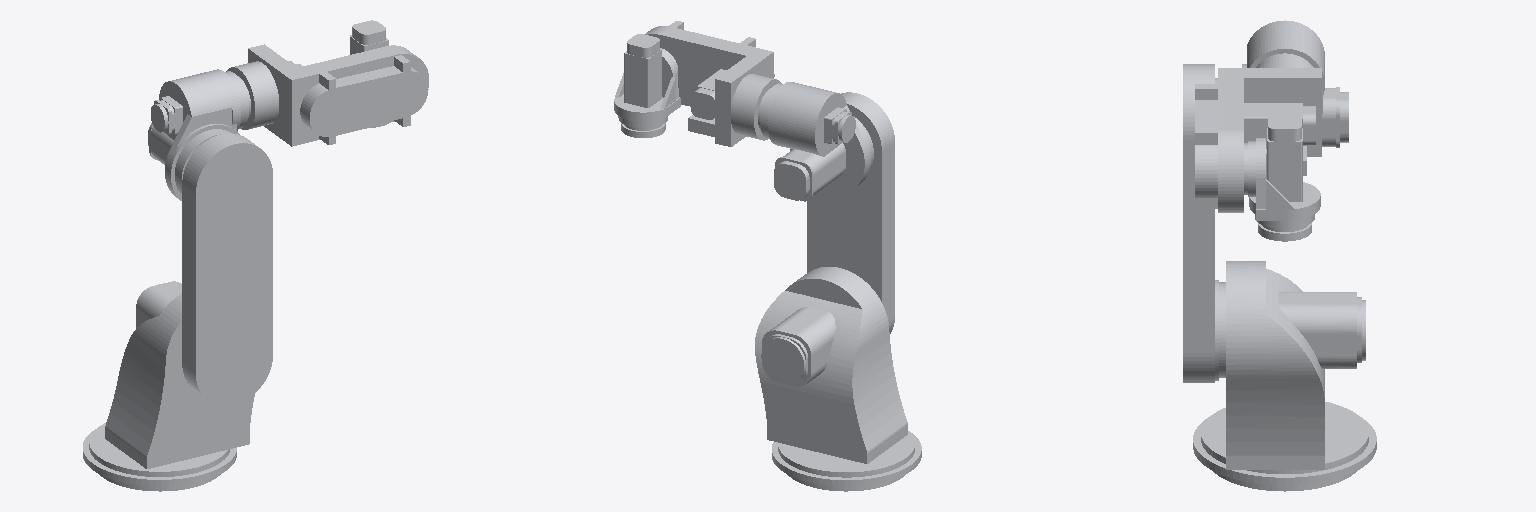
The robot description file, URDF, robot "rosie_600":
<?xml version="1.0"?>
<!-- Rosie 600 by Advanced Metal Research, sim kit 2026-10-09: https://advancedmetalresearch.com/assets/sim/600/
     Units m, kg, rad. Zero pose = home (tool flange facing down). tool0 = flange face, z out of the flange.
     Mesh paths are relative to this file; launch/display.launch.py rewrites them to package:// for ROS 2.
     Visual and collision meshes are the robot's real outside surfaces: one filled solid per link, structural parts' own CAD faces,
     motors and gearboxes as plain envelopes of the same size. Inertials are the robot's real mass properties. -->
<robot name="rosie_600">
  <material name="rosie_grey"><color rgba="0.82 0.83 0.85 1"/></material>
  <material name="rosie_dark"><color rgba="0.30 0.31 0.33 1"/></material>
  <link name="base_footprint"/>
  <joint name="base_footprint_joint" type="fixed">
    <parent link="base_footprint"/><child link="base_link"/>
    <origin xyz="0 0 0.175" rpy="0 0 0"/>
  </joint>
  <link name="base_link">
    <inertial>
      <origin xyz="0.0002 -0.00001 -0.0815" rpy="0 0 0"/>
      <mass value="7.775"/>
      <inertia ixx="0.048026" ixy="-0.000003" ixz="0.00004" iyy="0.047835" iyz="-0.000009" izz="0.041679"/>
    </inertial>
    <visual>
      <origin xyz="0 0 0" rpy="0 0 0"/>
      <geometry><mesh filename="../meshes/visual/base_link.stl"/></geometry>
      <material name="rosie_dark"/>
    </visual>
    <collision>
      <origin xyz="0 0 0" rpy="0 0 0"/>
      <geometry><mesh filename="../meshes/collision/base_link_c00.stl"/></geometry>
    </collision>
    <collision>
      <origin xyz="0 0 0" rpy="0 0 0"/>
      <geometry><mesh filename="../meshes/collision/base_link_c01.stl"/></geometry>
    </collision>
    <collision>
      <origin xyz="0 0 0" rpy="0 0 0"/>
      <geometry><mesh filename="../meshes/collision/base_link_c02.stl"/></geometry>
    </collision>
    <collision>
      <origin xyz="0 0 0" rpy="0 0 0"/>
      <geometry><mesh filename="../meshes/collision/base_link_c03.stl"/></geometry>
    </collision>
    <collision>
      <origin xyz="0 0 0" rpy="0 0 0"/>
      <geometry><mesh filename="../meshes/collision/base_link_c04.stl"/></geometry>
    </collision>
    <collision>
      <origin xyz="0 0 0" rpy="0 0 0"/>
      <geometry><mesh filename="../meshes/collision/base_link_c05.stl"/></geometry>
    </collision>
    <collision>
      <origin xyz="0 0 0" rpy="0 0 0"/>
      <geometry><mesh filename="../meshes/collision/base_link_c06.stl"/></geometry>
    </collision>
    <collision>
      <origin xyz="0 0 0" rpy="0 0 0"/>
      <geometry><mesh filename="../meshes/collision/base_link_c07.stl"/></geometry>
    </collision>
    <collision>
      <origin xyz="0 0 0" rpy="0 0 0"/>
      <geometry><mesh filename="../meshes/collision/base_link_c08.stl"/></geometry>
    </collision>
    <collision>
      <origin xyz="0 0 0" rpy="0 0 0"/>
      <geometry><mesh filename="../meshes/collision/base_link_c09.stl"/></geometry>
    </collision>
  </link>
  <joint name="J1" type="revolute">
    <parent link="base_link"/><child link="link_1"/>
    <origin xyz="0 0 0" rpy="0 0 0"/>
    <axis xyz="0 0 1"/>
    <limit lower="-2.96706" upper="2.96706" effort="157" velocity="5.8643"/>
    <dynamics damping="2" friction="0"/>
  </joint>
  <link name="link_1">
    <inertial>
      <origin xyz="0.03542 -0.01154 0.11172" rpy="0 0 0"/>
      <mass value="8.8297"/>
      <inertia ixx="0.067944" ixy="0.000854" ixz="-0.012492" iyy="0.071057" iyz="0.003029" izz="0.03594"/>
    </inertial>
    <visual>
      <origin xyz="0 0 0" rpy="0 0 0"/>
      <geometry><mesh filename="../meshes/visual/link_1.stl"/></geometry>
      <material name="rosie_grey"/>
    </visual>
    <collision>
      <origin xyz="0 0 0" rpy="0 0 0"/>
      <geometry><mesh filename="../meshes/collision/link_1_c00.stl"/></geometry>
    </collision>
    <collision>
      <origin xyz="0 0 0" rpy="0 0 0"/>
      <geometry><mesh filename="../meshes/collision/link_1_c01.stl"/></geometry>
    </collision>
    <collision>
      <origin xyz="0 0 0" rpy="0 0 0"/>
      <geometry><mesh filename="../meshes/collision/link_1_c02.stl"/></geometry>
    </collision>
    <collision>
      <origin xyz="0 0 0" rpy="0 0 0"/>
      <geometry><mesh filename="../meshes/collision/link_1_c03.stl"/></geometry>
    </collision>
    <collision>
      <origin xyz="0 0 0" rpy="0 0 0"/>
      <geometry><mesh filename="../meshes/collision/link_1_c04.stl"/></geometry>
    </collision>
    <collision>
      <origin xyz="0 0 0" rpy="0 0 0"/>
      <geometry><mesh filename="../meshes/collision/link_1_c05.stl"/></geometry>
    </collision>
    <collision>
      <origin xyz="0 0 0" rpy="0 0 0"/>
      <geometry><mesh filename="../meshes/collision/link_1_c06.stl"/></geometry>
    </collision>
    <collision>
      <origin xyz="0 0 0" rpy="0 0 0"/>
      <geometry><mesh filename="../meshes/collision/link_1_c07.stl"/></geometry>
    </collision>
    <collision>
      <origin xyz="0 0 0" rpy="0 0 0"/>
      <geometry><mesh filename="../meshes/collision/link_1_c08.stl"/></geometry>
    </collision>
    <collision>
      <origin xyz="0 0 0" rpy="0 0 0"/>
      <geometry><mesh filename="../meshes/collision/link_1_c09.stl"/></geometry>
    </collision>
  </link>
  <joint name="J2" type="revolute">
    <parent link="link_1"/><child link="link_2"/>
    <origin xyz="0.05 0 0.165" rpy="0 0 0"/>
    <axis xyz="0 1 0"/>
    <limit lower="-1.919862" upper="1.919862" effort="333" velocity="5.0265"/>
    <dynamics damping="2" friction="0"/>
  </joint>
  <link name="link_2">
    <inertial>
      <origin xyz="0 -0.08657 0.11318" rpy="0 0 0"/>
      <mass value="3.5802"/>
      <inertia ixx="0.057368" ixy="0" ixz="0" iyy="0.060642" iyz="0.000735" izz="0.004483"/>
    </inertial>
    <visual>
      <origin xyz="0 0 0" rpy="0 0 0"/>
      <geometry><mesh filename="../meshes/visual/link_2.stl"/></geometry>
      <material name="rosie_grey"/>
    </visual>
    <collision>
      <origin xyz="0 0 0" rpy="0 0 0"/>
      <geometry><mesh filename="../meshes/collision/link_2_c00.stl"/></geometry>
    </collision>
  </link>
  <joint name="J3" type="revolute">
    <parent link="link_2"/><child link="link_3"/>
    <origin xyz="0 0 0.27" rpy="0 0 0"/>
    <axis xyz="0 1 0"/>
    <limit lower="-2.617994" upper="2.617994" effort="157" velocity="5.8643"/>
    <dynamics damping="2" friction="0"/>
  </joint>
  <link name="link_3">
    <inertial>
      <origin xyz="0.0091 -0.01548 0.01874" rpy="0 0 0"/>
      <mass value="3.7902"/>
      <inertia ixx="0.010653" ixy="-0.000469" ixz="-0.001617" iyy="0.008959" iyz="-0.000955" izz="0.008548"/>
    </inertial>
    <visual>
      <origin xyz="0 0 0" rpy="0 0 0"/>
      <geometry><mesh filename="../meshes/visual/link_3.stl"/></geometry>
      <material name="rosie_grey"/>
    </visual>
    <collision>
      <origin xyz="0 0 0" rpy="0 0 0"/>
      <geometry><mesh filename="../meshes/collision/link_3_c00.stl"/></geometry>
    </collision>
    <collision>
      <origin xyz="0 0 0" rpy="0 0 0"/>
      <geometry><mesh filename="../meshes/collision/link_3_c01.stl"/></geometry>
    </collision>
    <collision>
      <origin xyz="0 0 0" rpy="0 0 0"/>
      <geometry><mesh filename="../meshes/collision/link_3_c02.stl"/></geometry>
    </collision>
    <collision>
      <origin xyz="0 0 0" rpy="0 0 0"/>
      <geometry><mesh filename="../meshes/collision/link_3_c03.stl"/></geometry>
    </collision>
    <collision>
      <origin xyz="0 0 0" rpy="0 0 0"/>
      <geometry><mesh filename="../meshes/collision/link_3_c04.stl"/></geometry>
    </collision>
    <collision>
      <origin xyz="0 0 0" rpy="0 0 0"/>
      <geometry><mesh filename="../meshes/collision/link_3_c05.stl"/></geometry>
    </collision>
    <collision>
      <origin xyz="0 0 0" rpy="0 0 0"/>
      <geometry><mesh filename="../meshes/collision/link_3_c06.stl"/></geometry>
    </collision>
    <collision>
      <origin xyz="0 0 0" rpy="0 0 0"/>
      <geometry><mesh filename="../meshes/collision/link_3_c07.stl"/></geometry>
    </collision>
    <collision>
      <origin xyz="0 0 0" rpy="0 0 0"/>
      <geometry><mesh filename="../meshes/collision/link_3_c08.stl"/></geometry>
    </collision>
    <collision>
      <origin xyz="0 0 0" rpy="0 0 0"/>
      <geometry><mesh filename="../meshes/collision/link_3_c09.stl"/></geometry>
    </collision>
  </link>
  <joint name="J4" type="revolute">
    <parent link="link_3"/><child link="link_4"/>
    <origin xyz="0.075 0 0.065" rpy="0 0 0"/>
    <axis xyz="1 0 0"/>
    <limit lower="-3.141593" upper="3.141593" effort="54" velocity="6.2832"/>
    <dynamics damping="0.5" friction="0"/>
  </joint>
  <link name="link_4">
    <inertial>
      <origin xyz="0.10459 -0.03843 -0.00241" rpy="0 0 0"/>
      <mass value="3.75"/>
      <inertia ixx="0.007509" ixy="0.005758" ixz="-0.000133" iyy="0.022602" iyz="0.000205" izz="0.024574"/>
    </inertial>
    <visual>
      <origin xyz="0 0 0" rpy="0 0 0"/>
      <geometry><mesh filename="../meshes/visual/link_4.stl"/></geometry>
      <material name="rosie_grey"/>
    </visual>
    <collision>
      <origin xyz="0 0 0" rpy="0 0 0"/>
      <geometry><mesh filename="../meshes/collision/link_4_c00.stl"/></geometry>
    </collision>
    <collision>
      <origin xyz="0 0 0" rpy="0 0 0"/>
      <geometry><mesh filename="../meshes/collision/link_4_c01.stl"/></geometry>
    </collision>
    <collision>
      <origin xyz="0 0 0" rpy="0 0 0"/>
      <geometry><mesh filename="../meshes/collision/link_4_c02.stl"/></geometry>
    </collision>
    <collision>
      <origin xyz="0 0 0" rpy="0 0 0"/>
      <geometry><mesh filename="../meshes/collision/link_4_c03.stl"/></geometry>
    </collision>
    <collision>
      <origin xyz="0 0 0" rpy="0 0 0"/>
      <geometry><mesh filename="../meshes/collision/link_4_c04.stl"/></geometry>
    </collision>
    <collision>
      <origin xyz="0 0 0" rpy="0 0 0"/>
      <geometry><mesh filename="../meshes/collision/link_4_c05.stl"/></geometry>
    </collision>
    <collision>
      <origin xyz="0 0 0" rpy="0 0 0"/>
      <geometry><mesh filename="../meshes/collision/link_4_c06.stl"/></geometry>
    </collision>
    <collision>
      <origin xyz="0 0 0" rpy="0 0 0"/>
      <geometry><mesh filename="../meshes/collision/link_4_c07.stl"/></geometry>
    </collision>
    <collision>
      <origin xyz="0 0 0" rpy="0 0 0"/>
      <geometry><mesh filename="../meshes/collision/link_4_c08.stl"/></geometry>
    </collision>
    <collision>
      <origin xyz="0 0 0" rpy="0 0 0"/>
      <geometry><mesh filename="../meshes/collision/link_4_c09.stl"/></geometry>
    </collision>
  </link>
  <joint name="J5" type="revolute">
    <parent link="link_4"/><child link="link_5"/>
    <origin xyz="0.205 0 0" rpy="0 0 0"/>
    <axis xyz="0 1 0"/>
    <limit lower="-2.181662" upper="2.181662" effort="54" velocity="6.2832"/>
    <dynamics damping="0.5" friction="0"/>
  </joint>
  <link name="link_5">
    <inertial>
      <origin xyz="0.00001 -0.01272 -0.01648" rpy="0 0 0"/>
      <mass value="1.3356"/>
      <inertia ixx="0.001668" ixy="0.000005" ixz="-0.000002" iyy="0.001536" iyz="0.00024" izz="0.00097"/>
    </inertial>
    <visual>
      <origin xyz="0 0 0" rpy="0 0 0"/>
      <geometry><mesh filename="../meshes/visual/link_5.stl"/></geometry>
      <material name="rosie_grey"/>
    </visual>
    <collision>
      <origin xyz="0 0 0" rpy="0 0 0"/>
      <geometry><mesh filename="../meshes/collision/link_5_c00.stl"/></geometry>
    </collision>
    <collision>
      <origin xyz="0 0 0" rpy="0 0 0"/>
      <geometry><mesh filename="../meshes/collision/link_5_c01.stl"/></geometry>
    </collision>
    <collision>
      <origin xyz="0 0 0" rpy="0 0 0"/>
      <geometry><mesh filename="../meshes/collision/link_5_c02.stl"/></geometry>
    </collision>
    <collision>
      <origin xyz="0 0 0" rpy="0 0 0"/>
      <geometry><mesh filename="../meshes/collision/link_5_c03.stl"/></geometry>
    </collision>
    <collision>
      <origin xyz="0 0 0" rpy="0 0 0"/>
      <geometry><mesh filename="../meshes/collision/link_5_c04.stl"/></geometry>
    </collision>
    <collision>
      <origin xyz="0 0 0" rpy="0 0 0"/>
      <geometry><mesh filename="../meshes/collision/link_5_c05.stl"/></geometry>
    </collision>
    <collision>
      <origin xyz="0 0 0" rpy="0 0 0"/>
      <geometry><mesh filename="../meshes/collision/link_5_c06.stl"/></geometry>
    </collision>
    <collision>
      <origin xyz="0 0 0" rpy="0 0 0"/>
      <geometry><mesh filename="../meshes/collision/link_5_c07.stl"/></geometry>
    </collision>
    <collision>
      <origin xyz="0 0 0" rpy="0 0 0"/>
      <geometry><mesh filename="../meshes/collision/link_5_c08.stl"/></geometry>
    </collision>
    <collision>
      <origin xyz="0 0 0" rpy="0 0 0"/>
      <geometry><mesh filename="../meshes/collision/link_5_c09.stl"/></geometry>
    </collision>
  </link>
  <joint name="J6" type="revolute">
    <parent link="link_5"/><child link="link_6"/>
    <origin xyz="0 0 -0.07725" rpy="0 0 0"/>
    <axis xyz="0 0 1"/>
    <limit lower="-3.141593" upper="3.141593" effort="28" velocity="6.2832"/>
    <dynamics damping="0.5" friction="0"/>
  </joint>
  <link name="link_6">
    <inertial>
      <origin xyz="-0.00006 0 0.01074" rpy="0 0 0"/>
      <mass value="0.2413"/>
      <inertia ixx="0.000051" ixy="0" ixz="0" iyy="0.00005" iyz="0" izz="0.000094"/>
    </inertial>
    <visual>
      <origin xyz="0 0 0" rpy="0 0 0"/>
      <geometry><mesh filename="../meshes/visual/link_6.stl"/></geometry>
      <material name="rosie_grey"/>
    </visual>
    <collision>
      <origin xyz="0 0 0" rpy="0 0 0"/>
      <geometry><mesh filename="../meshes/collision/link_6_c00.stl"/></geometry>
    </collision>
    <collision>
      <origin xyz="0 0 0" rpy="0 0 0"/>
      <geometry><mesh filename="../meshes/collision/link_6_c01.stl"/></geometry>
    </collision>
    <collision>
      <origin xyz="0 0 0" rpy="0 0 0"/>
      <geometry><mesh filename="../meshes/collision/link_6_c02.stl"/></geometry>
    </collision>
    <collision>
      <origin xyz="0 0 0" rpy="0 0 0"/>
      <geometry><mesh filename="../meshes/collision/link_6_c03.stl"/></geometry>
    </collision>
    <collision>
      <origin xyz="0 0 0" rpy="0 0 0"/>
      <geometry><mesh filename="../meshes/collision/link_6_c04.stl"/></geometry>
    </collision>
    <collision>
      <origin xyz="0 0 0" rpy="0 0 0"/>
      <geometry><mesh filename="../meshes/collision/link_6_c05.stl"/></geometry>
    </collision>
    <collision>
      <origin xyz="0 0 0" rpy="0 0 0"/>
      <geometry><mesh filename="../meshes/collision/link_6_c06.stl"/></geometry>
    </collision>
    <collision>
      <origin xyz="0 0 0" rpy="0 0 0"/>
      <geometry><mesh filename="../meshes/collision/link_6_c07.stl"/></geometry>
    </collision>
    <collision>
      <origin xyz="0 0 0" rpy="0 0 0"/>
      <geometry><mesh filename="../meshes/collision/link_6_c08.stl"/></geometry>
    </collision>
    <collision>
      <origin xyz="0 0 0" rpy="0 0 0"/>
      <geometry><mesh filename="../meshes/collision/link_6_c09.stl"/></geometry>
    </collision>
  </link>
  <joint name="tool0_joint" type="fixed">
    <parent link="link_6"/><child link="tool0"/>
    <origin xyz="0 0 0" rpy="3.141592653589793 0 0"/>
  </joint>
  <link name="tool0">
    <inertial><origin xyz="0 0 0" rpy="0 0 0"/><mass value="1e-06"/><inertia ixx="1e-12" ixy="0" ixz="0" iyy="1e-12" iyz="0" izz="1e-12"/></inertial>
  </link>
  <transmission name="J1_transmission">
    <type>transmission_interface/SimpleTransmission</type>
    <joint name="J1"><hardwareInterface>hardware_interface/PositionJointInterface</hardwareInterface></joint>
    <actuator name="J1_motor"><mechanicalReduction>1</mechanicalReduction></actuator>
  </transmission>
  <transmission name="J2_transmission">
    <type>transmission_interface/SimpleTransmission</type>
    <joint name="J2"><hardwareInterface>hardware_interface/PositionJointInterface</hardwareInterface></joint>
    <actuator name="J2_motor"><mechanicalReduction>1</mechanicalReduction></actuator>
  </transmission>
  <transmission name="J3_transmission">
    <type>transmission_interface/SimpleTransmission</type>
    <joint name="J3"><hardwareInterface>hardware_interface/PositionJointInterface</hardwareInterface></joint>
    <actuator name="J3_motor"><mechanicalReduction>1</mechanicalReduction></actuator>
  </transmission>
  <transmission name="J4_transmission">
    <type>transmission_interface/SimpleTransmission</type>
    <joint name="J4"><hardwareInterface>hardware_interface/PositionJointInterface</hardwareInterface></joint>
    <actuator name="J4_motor"><mechanicalReduction>1</mechanicalReduction></actuator>
  </transmission>
  <transmission name="J5_transmission">
    <type>transmission_interface/SimpleTransmission</type>
    <joint name="J5"><hardwareInterface>hardware_interface/PositionJointInterface</hardwareInterface></joint>
    <actuator name="J5_motor"><mechanicalReduction>1</mechanicalReduction></actuator>
  </transmission>
  <transmission name="J6_transmission">
    <type>transmission_interface/SimpleTransmission</type>
    <joint name="J6"><hardwareInterface>hardware_interface/PositionJointInterface</hardwareInterface></joint>
    <actuator name="J6_motor"><mechanicalReduction>1</mechanicalReduction></actuator>
  </transmission>
</robot>

--- What the picture shows (computed from the rendered views, not written in the file) ---
The picture shows the robot from 3 angles, left to right: view 1: azimuth 30°, elevation 25°; view 2: azimuth 150°, elevation 25°; view 3: azimuth 270°, elevation 25°; orthographic projection.
Robot: rosie_600 — 9 links, 8 joints (6 revolute, 2 fixed); root link base_footprint; default pose: every joint at zero.
Visible links, largest first — view 1: link_2, link_1, link_4, link_3, link_5; view 2: link_1, link_2, link_3, link_4, link_5; view 3: link_1, link_4, link_2, link_5, link_3, link_6.
Link boxes in pixels (<box>): link_2: <box>182,133,272,405</box>; link_1: <box>83,281,254,491</box>; link_4: <box>226,44,428,146</box>; link_3: <box>148,69,248,200</box>; link_5: <box>350,20,388,54</box>; link_1: <box>755,267,921,491</box>; link_2: <box>807,92,894,333</box>; link_3: <box>760,82,873,201</box>; link_4: <box>645,21,781,146</box>; link_5: <box>614,34,680,128</box>; link_1: <box>1193,261,1376,491</box>; link_4: <box>1195,59,1322,212</box>; link_2: <box>1183,64,1218,382</box>; link_5: <box>1249,115,1320,228</box>; link_3: <box>1242,20,1348,147</box>; link_6: <box>1258,223,1311,241</box>.
Size in the robot's own frame: 0.4855 by 0.2226 by 0.5799 metres.
Meshes: 7 distinct files referenced, 6 mesh visuals loaded (6 binary STL); not drawn: 1 (reference not matched to a file when rendering).
